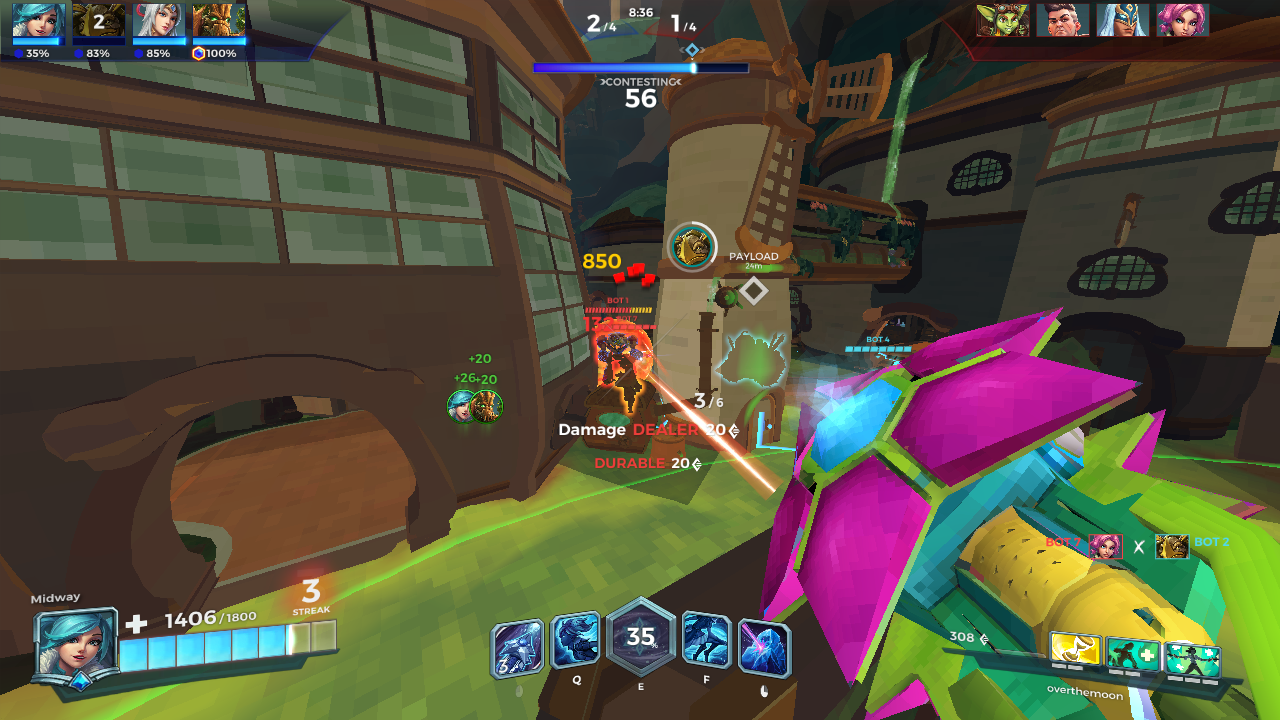model: (583, 322, 654, 385)
